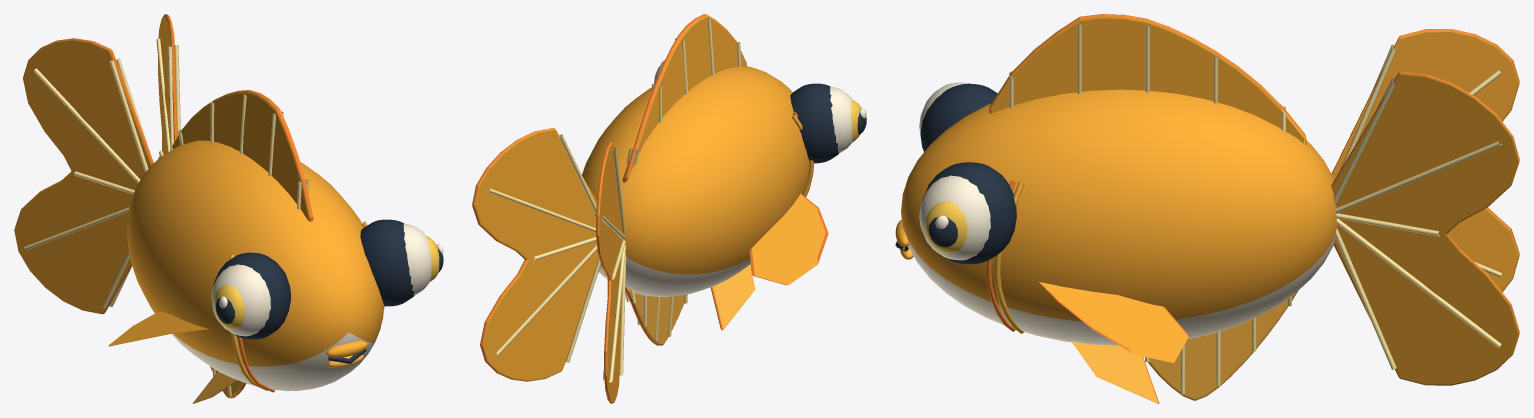
File: goldfish.glb
3 renders of one model, left to right at view 1: azimuth 30°, elevation 25°; view 2: azimuth 150°, elevation 25°; view 3: azimuth 270°, elevation 25°, orthographic. The views are drawn at different scales.
Parts seen in each view (by area): view 1: BodyMesh, TailMesh, PectoralMesh, PelvicMesh; view 2: BodyMesh, TailMesh, PectoralMesh, PelvicMesh; view 3: BodyMesh, TailMesh, PectoralMesh.001, PelvicMesh.001.
Part boxes in pixels (<box>): BodyMesh: <box>127,90,443,398</box>; TailMesh: <box>14,14,180,314</box>; PectoralMesh: <box>108,311,208,346</box>; PelvicMesh: <box>192,371,237,403</box>; BodyMesh: <box>582,14,866,345</box>; TailMesh: <box>472,128,626,403</box>; PectoralMesh: <box>749,193,828,285</box>; PelvicMesh: <box>710,264,755,330</box>; BodyMesh: <box>895,14,1337,400</box>; TailMesh: <box>1331,29,1519,385</box>; PectoralMesh.001: <box>1039,282,1188,362</box>; PelvicMesh.001: <box>1071,341,1159,403</box>.
Bounding box in the file's own units: 1.57 × 1.75 × 2.56.
